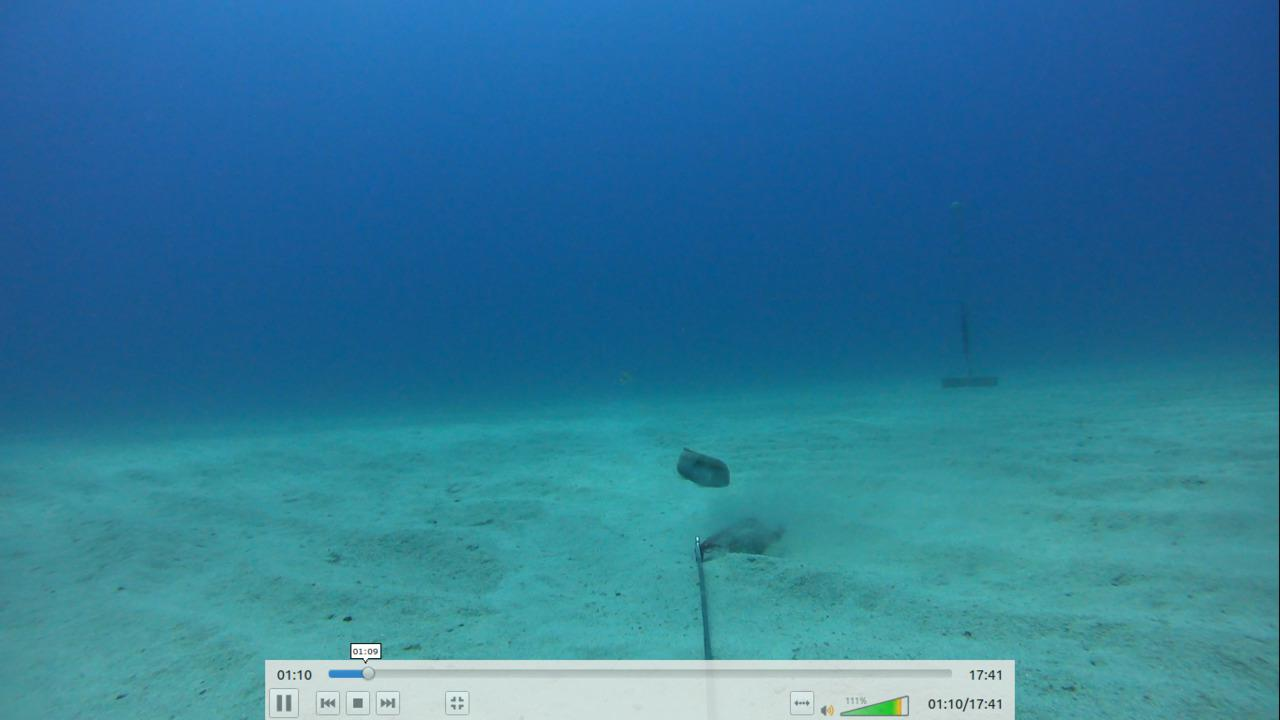raor: (665, 438, 739, 495)
